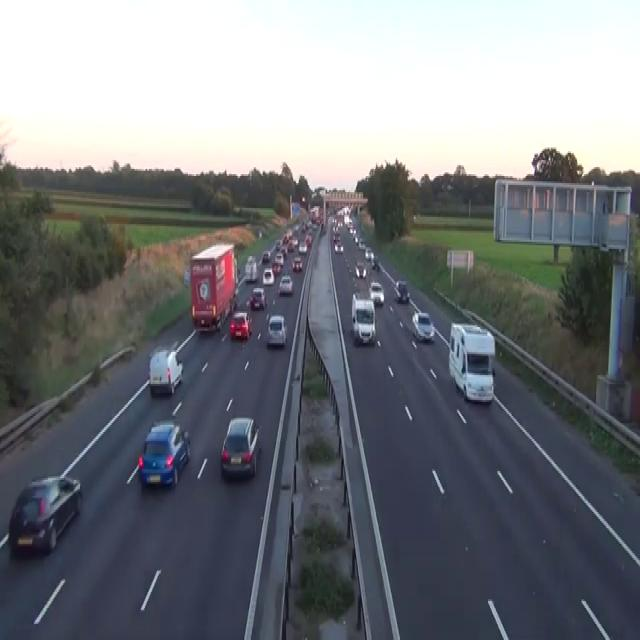Car: (8, 474, 82, 554), (137, 419, 190, 489), (220, 416, 260, 478), (148, 346, 183, 396), (412, 311, 435, 341), (266, 313, 286, 347), (229, 311, 252, 340), (249, 286, 266, 310), (368, 281, 384, 306), (393, 279, 410, 302), (277, 274, 293, 295), (262, 266, 274, 284), (354, 260, 366, 278), (230, 286, 238, 310), (292, 256, 302, 272), (370, 254, 379, 270), (271, 260, 281, 274), (274, 252, 284, 266), (261, 249, 270, 263), (365, 246, 373, 260), (441, 182, 455, 190), (298, 240, 307, 252), (334, 242, 343, 252), (358, 238, 366, 249), (332, 231, 340, 242), (305, 233, 312, 245), (320, 222, 326, 235), (275, 238, 281, 251), (280, 247, 287, 258), (233, 204, 240, 213), (236, 267, 241, 279), (287, 242, 294, 250), (258, 228, 262, 238), (354, 234, 358, 243)
Truck: (190, 242, 238, 331), (448, 322, 495, 404), (351, 291, 376, 345)
